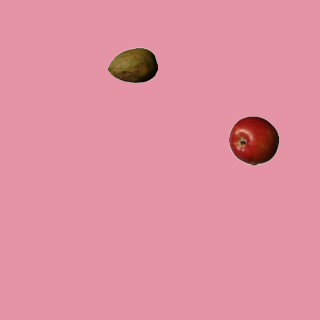Apple Braeburn: (228, 115, 278, 165)
Papaya: (107, 40, 157, 90)
